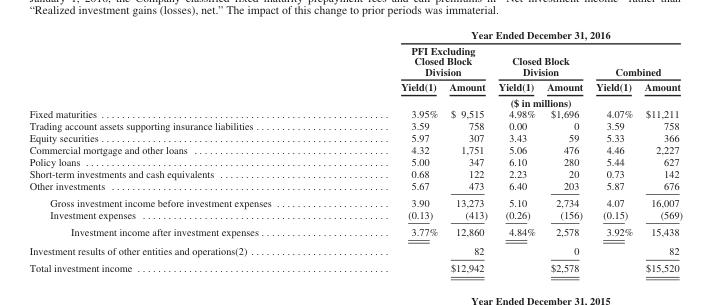table: (28, 28, 682, 273)
table column: (28, 28, 335, 273), (335, 28, 442, 273), (442, 28, 492, 273), (588, 28, 638, 273), (492, 28, 540, 273), (540, 28, 588, 273), (638, 28, 682, 273)
table column header: (28, 28, 682, 107)
table row: (28, 42, 682, 78), (28, 222, 682, 241), (28, 241, 682, 259), (28, 78, 682, 94), (28, 193, 682, 208), (28, 28, 682, 42), (28, 179, 682, 193), (28, 208, 682, 222), (28, 259, 682, 273), (28, 94, 682, 107), (28, 107, 682, 119), (28, 119, 682, 131), (28, 131, 682, 143), (28, 143, 682, 155), (28, 155, 682, 167), (28, 167, 682, 179)
table spanning cell: (335, 42, 492, 78), (335, 28, 682, 42), (335, 94, 682, 107), (492, 42, 588, 78), (588, 42, 682, 78)
